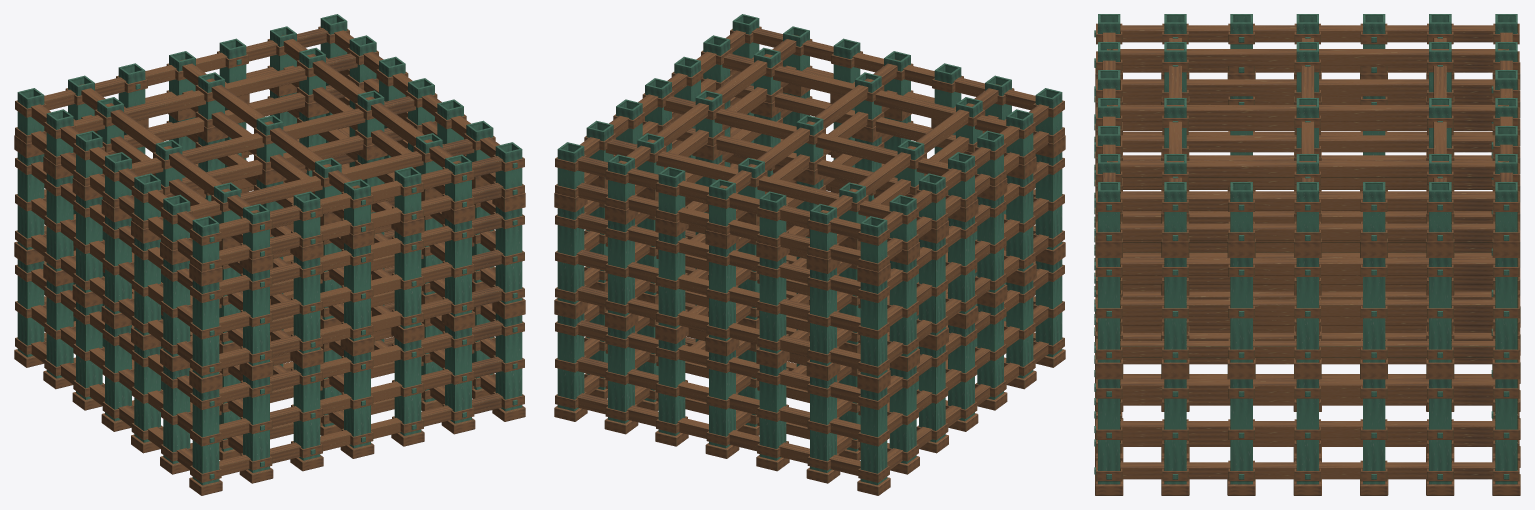
3 renders of one model, left to right at view 1: azimuth 30°, elevation 25°; view 2: azimuth 150°, elevation 25°; view 3: azimuth 270°, elevation 25°, orthographic. The views are drawn at different scales.
Visible parts, largest first — view 1: Tier 2 internal tie 0-0-0-0.75, Tier 2 internal tie 0-0.56-0-0.75, Tier 2 internal tie 0--0.56-0-0.75, Tier 1 tie 0-0-0.16, Tier 2 tie 0-0-0.75, Tier 0 tie 0-0-0.16, Tier 0 tie 0-0-0.5, Tier 1 tie 0-0-0.5, Tier 2 tie 0-0-0.25, Tier 0 tie 0-0-0.84, Tier 1 tie 0-0-0.84, Tier 2 tie 2-0-0.75 (+83 smaller); view 2: Tier 2 internal tie 0-0-0-0.75, Tier 2 internal tie 0--0.56-0-0.75, Tier 2 internal tie 0-0.56-0-0.75, Tier 1 tie 2-0-0.16, Tier 2 tie 2-0-0.75, Tier 0 tie 2-0-0.16, Tier 0 tie 2-0-0.5, Tier 1 tie 2-0-0.5, Tier 2 tie 2-0-0.25, Tier 0 tie 2-0-0.84, Tier 1 tie 2-0-0.84, Tier 2 tie 0-0-0.75 (+83 smaller); view 3: Tier 2 internal tie 1--0.56-0-0.25, Tier 2 internal tie 1-0-0-0.25, Tier 2 internal tie 1--0.56-0-0.75, Tier 2 internal tie 1-0-0-0.75, Tier 2 internal tie 1-0.56-0-0.75, Tier 0 tie 1-0-0.84, Tier 1 tie 1-0-0.5, Tier 0 tie 1-0-0.16, Tier 1 tie 1-0-0.84, Tier 2 tie 1-0-0.75, Tier 2 tie 3-0-0.75, Tier 2 tie 1-0-0.25 (+73 smaller).
Part boxes in pixels (x1,y1,x2,y2): Tier 2 internal tie 0-0-0-0.75: (132,96,415,176); Tier 2 internal tie 0-0.56-0-0.75: (73,53,357,133); Tier 2 internal tie 0--0.56-0-0.75: (190,139,474,218); Tier 1 tie 0-0-0.16: (219,286,503,368); Tier 2 tie 0-0-0.75: (219,156,503,238); Tier 0 tie 0-0-0.16: (219,393,503,475); Tier 0 tie 0-0-0.5: (219,356,503,439); Tier 1 tie 0-0-0.5: (219,249,503,332); Tier 2 tie 0-0-0.25: (219,182,503,265); Tier 0 tie 0-0-0.84: (219,320,503,402); Tier 1 tie 0-0-0.84: (219,213,503,295); Tier 2 tie 2-0-0.75: (44,28,328,110); Tier 2 internal tie 0-0-0-0.75: (664,96,947,176); Tier 2 internal tie 0--0.56-0-0.75: (722,53,1006,133); Tier 2 internal tie 0-0.56-0-0.75: (605,139,889,218); Tier 1 tie 2-0-0.16: (576,286,860,368); Tier 2 tie 2-0-0.75: (576,156,860,238); Tier 0 tie 2-0-0.16: (576,393,860,475); Tier 0 tie 2-0-0.5: (576,356,860,439); Tier 1 tie 2-0-0.5: (576,249,860,332); Tier 2 tie 2-0-0.25: (576,182,860,265); Tier 0 tie 2-0-0.84: (576,320,860,402); Tier 1 tie 2-0-0.84: (576,213,860,295); Tier 2 tie 0-0-0.75: (751,28,1035,110); Tier 2 internal tie 1--0.56-0-0.25: (1122,79,1493,96); Tier 2 internal tie 1-0-0-0.25: (1122,135,1493,152); Tier 2 internal tie 1--0.56-0-0.75: (1107,49,1508,65); Tier 2 internal tie 1-0-0-0.75: (1107,105,1508,121); Tier 2 internal tie 1-0.56-0-0.75: (1107,161,1508,177); Tier 0 tie 1-0-0.84: (1120,379,1495,396); Tier 1 tie 1-0-0.5: (1120,299,1495,316); Tier 0 tie 1-0-0.16: (1120,462,1495,479); Tier 1 tie 1-0-0.84: (1120,258,1495,275); Tier 2 tie 1-0-0.75: (1120,193,1495,210); Tier 2 tie 3-0-0.75: (1120,25,1495,42); Tier 2 tie 1-0-0.25: (1120,223,1495,240).
Size of the model in its own units: 1.8 by 1.42 by 1.8.
Materials: 2 (2 with a texture image).
